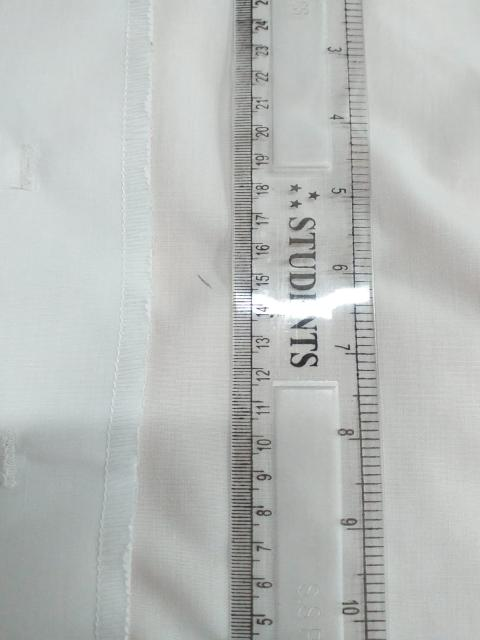Dirty_mark: (188, 271, 215, 290)
